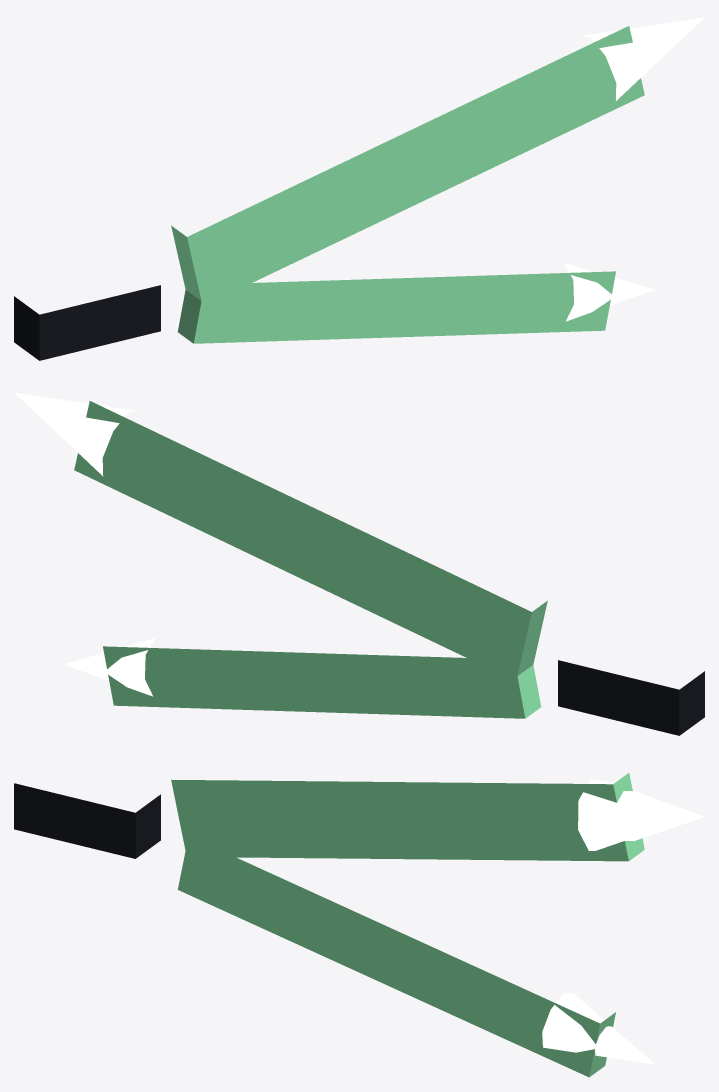
File: butterfly.glb
3 renders of one model, top to bottom at view 1: azimuth 30°, elevation 25°; view 2: azimuth 150°, elevation 25°; view 3: azimuth 330°, elevation 25°, orthographic.
Parts seen in each view (by area): view 1: butterfly-wing-upper, butterfly-wing-lower, butterfly-grip, butterfly-upper-tip, butterfly-lower-tip; view 2: butterfly-wing-upper, butterfly-wing-lower, butterfly-grip, butterfly-upper-tip, butterfly-lower-tip; view 3: butterfly-wing-upper, butterfly-wing-lower, butterfly-grip, butterfly-upper-tip, butterfly-lower-tip.
Boxes of the visible parts, x1,y1,x2,y2 form: butterfly-wing-upper: (171, 26, 644, 300); butterfly-wing-lower: (177, 271, 615, 343); butterfly-grip: (14, 285, 160, 360); butterfly-upper-tip: (580, 17, 704, 101); butterfly-lower-tip: (564, 263, 655, 321); butterfly-wing-upper: (74, 401, 547, 680); butterfly-wing-lower: (103, 646, 541, 718); butterfly-grip: (558, 660, 704, 735); butterfly-upper-tip: (14, 392, 138, 476); butterfly-lower-tip: (63, 638, 154, 696); butterfly-wing-upper: (171, 773, 644, 861); butterfly-wing-lower: (177, 836, 615, 1077); butterfly-grip: (14, 783, 160, 858); butterfly-upper-tip: (578, 780, 704, 850); butterfly-lower-tip: (542, 993, 654, 1064).
Bounding box in the file's own units: 1.23 × 0.5174 × 0.12.
